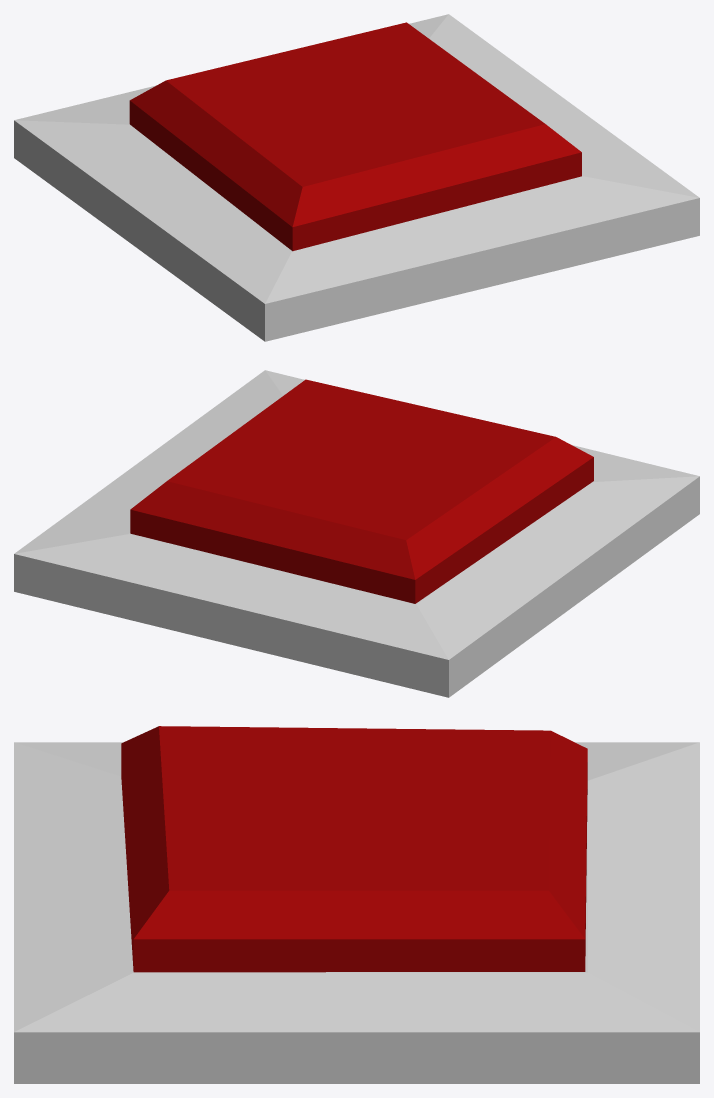
File: button.glb
3 views of the same model, one above another, from view 1: azimuth 30°, elevation 25°; view 2: azimuth 150°, elevation 25°; view 3: azimuth 270°, elevation 25° (orthographic). The views are drawn at different scales.
Parts seen in each view (by area): view 1: Cube, Cube.001; view 2: Cube, Cube.001; view 3: Cube, Cube.001.
Part boxes in pixels (box(x1,y1,x2,y2)): Cube: box(14, 14, 699, 341); Cube.001: box(129, 22, 581, 251); Cube: box(14, 370, 699, 697); Cube.001: box(130, 379, 593, 603); Cube: box(14, 742, 699, 1083); Cube.001: box(121, 726, 587, 972).
Bounding box in the file's own units: 2 × 0.4125 × 2.
